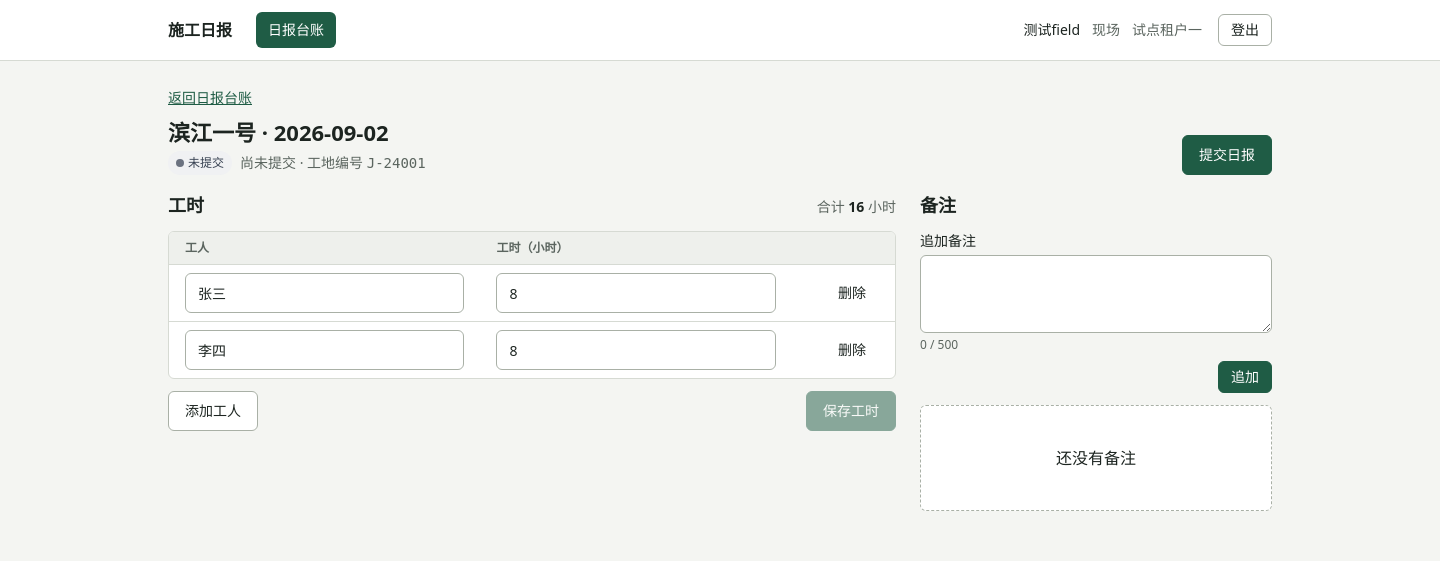
ReportDetailPage › shows the server message when saving crew fails
The image size is (1440, 561).
Click the button "添加工人".
click(213, 411)  # box x1=168 y1=391 x2=258 y2=431
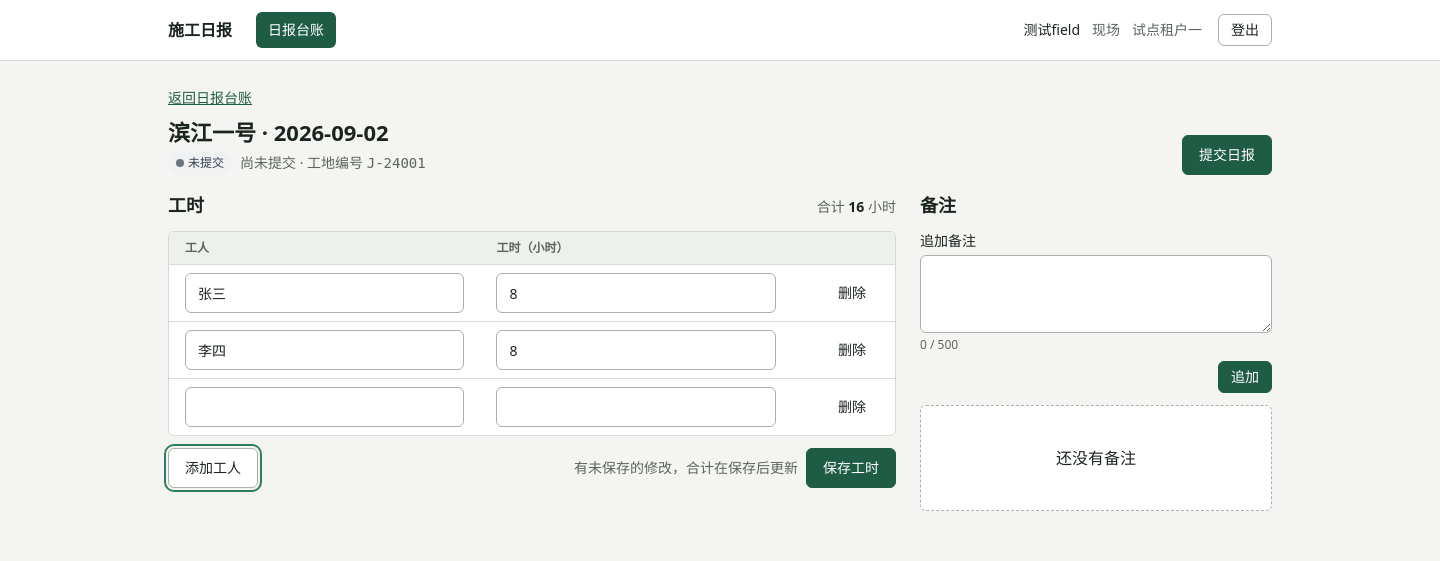
Type "王五" into the field named "第 3 行工人".
click(325, 407); type("王五")  # box x1=185 y1=387 x2=464 y2=427
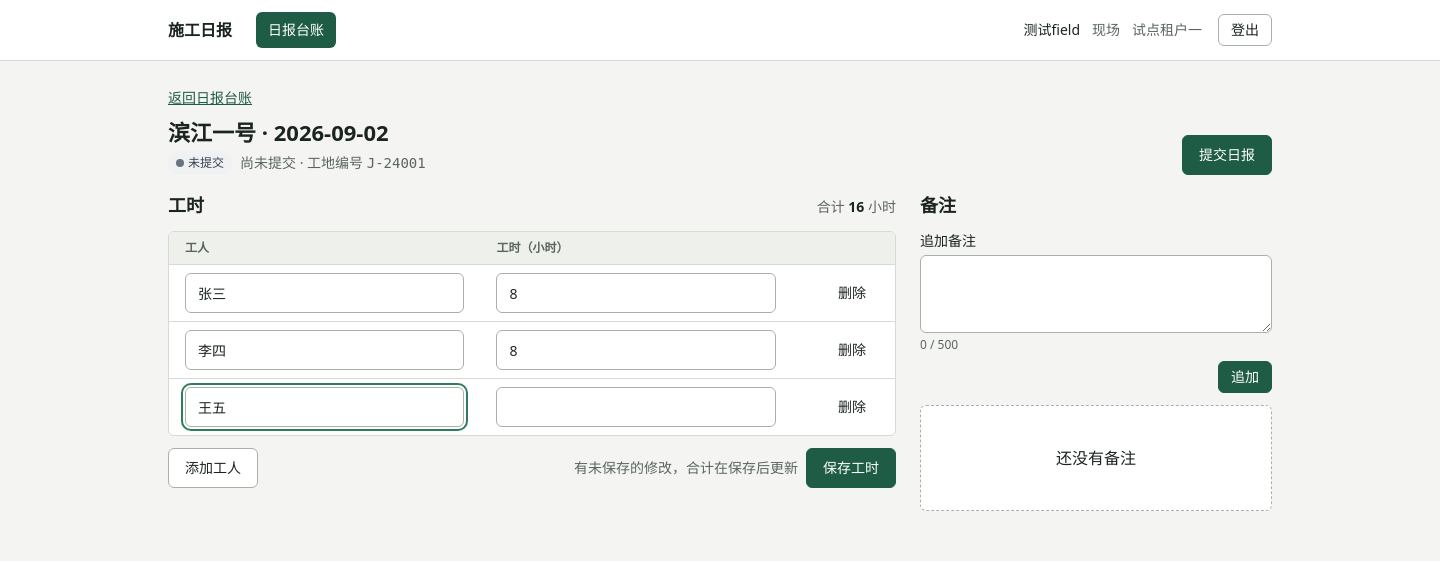
Type "4" into the number field named "第 3 行工时".
click(636, 407); type("4")  # box x1=496 y1=387 x2=776 y2=427
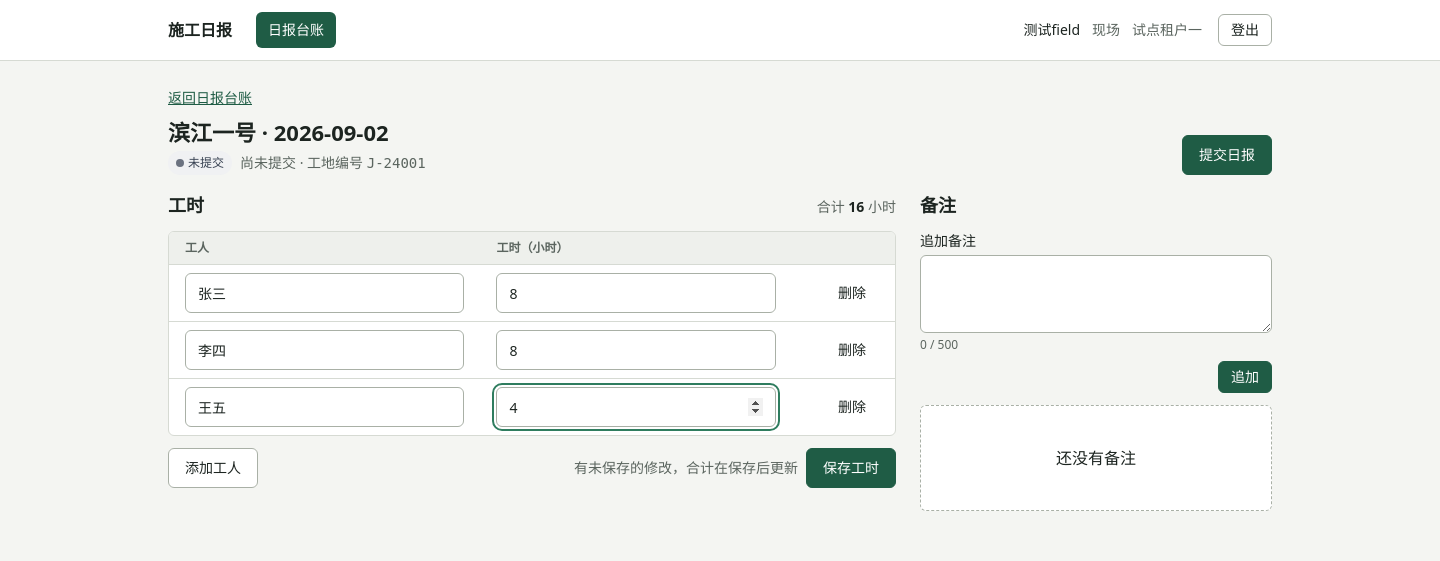
Click the button "保存工时".
click(851, 468)  # box x1=806 y1=448 x2=896 y2=488
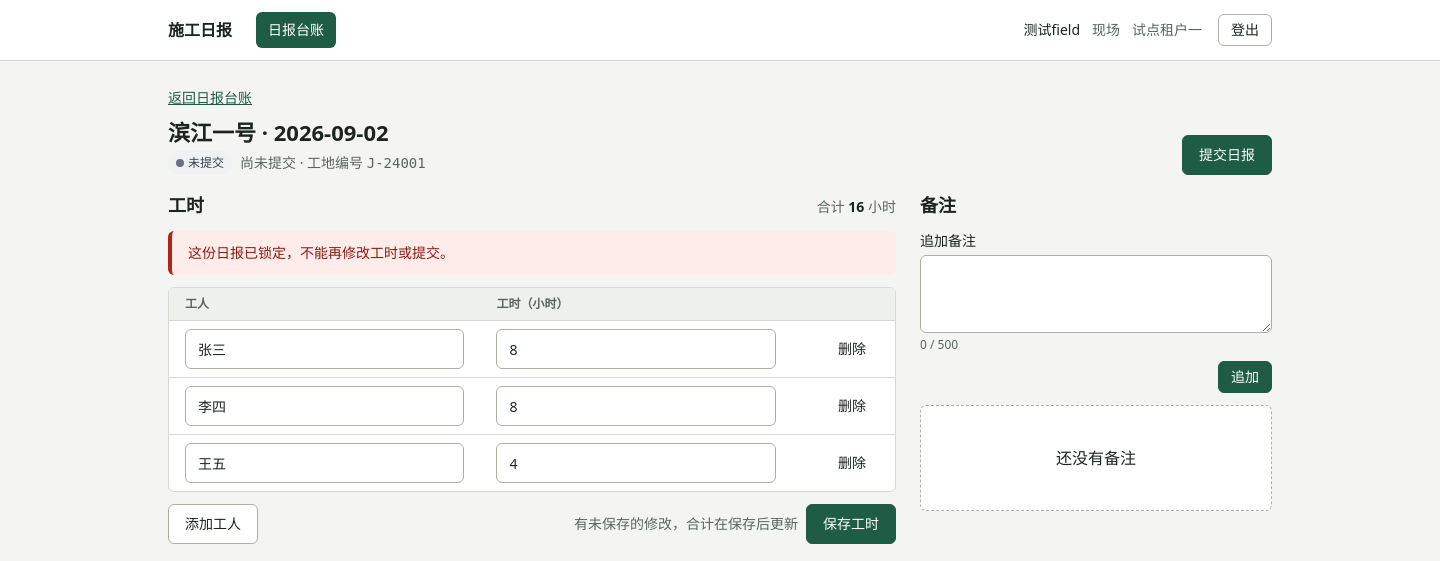
Check: the text "这份日报已锁定，不能再修改工时或提交。" is shown, box x1=188 y1=243 x2=454 y2=263
